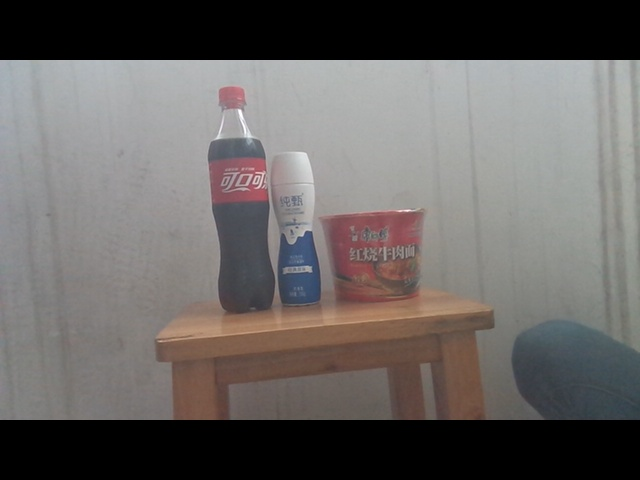cola: (207, 85, 276, 313)
kangshifu: (318, 206, 426, 305)
yogurt: (269, 150, 322, 307)
